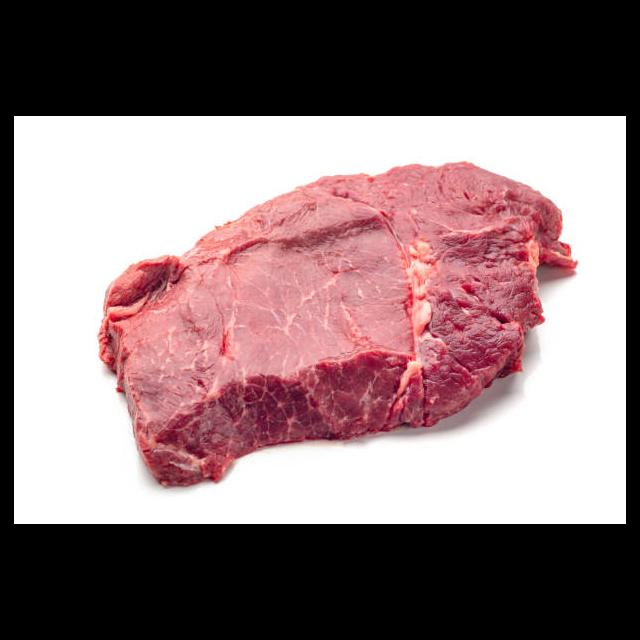beef: (98, 161, 580, 489)
